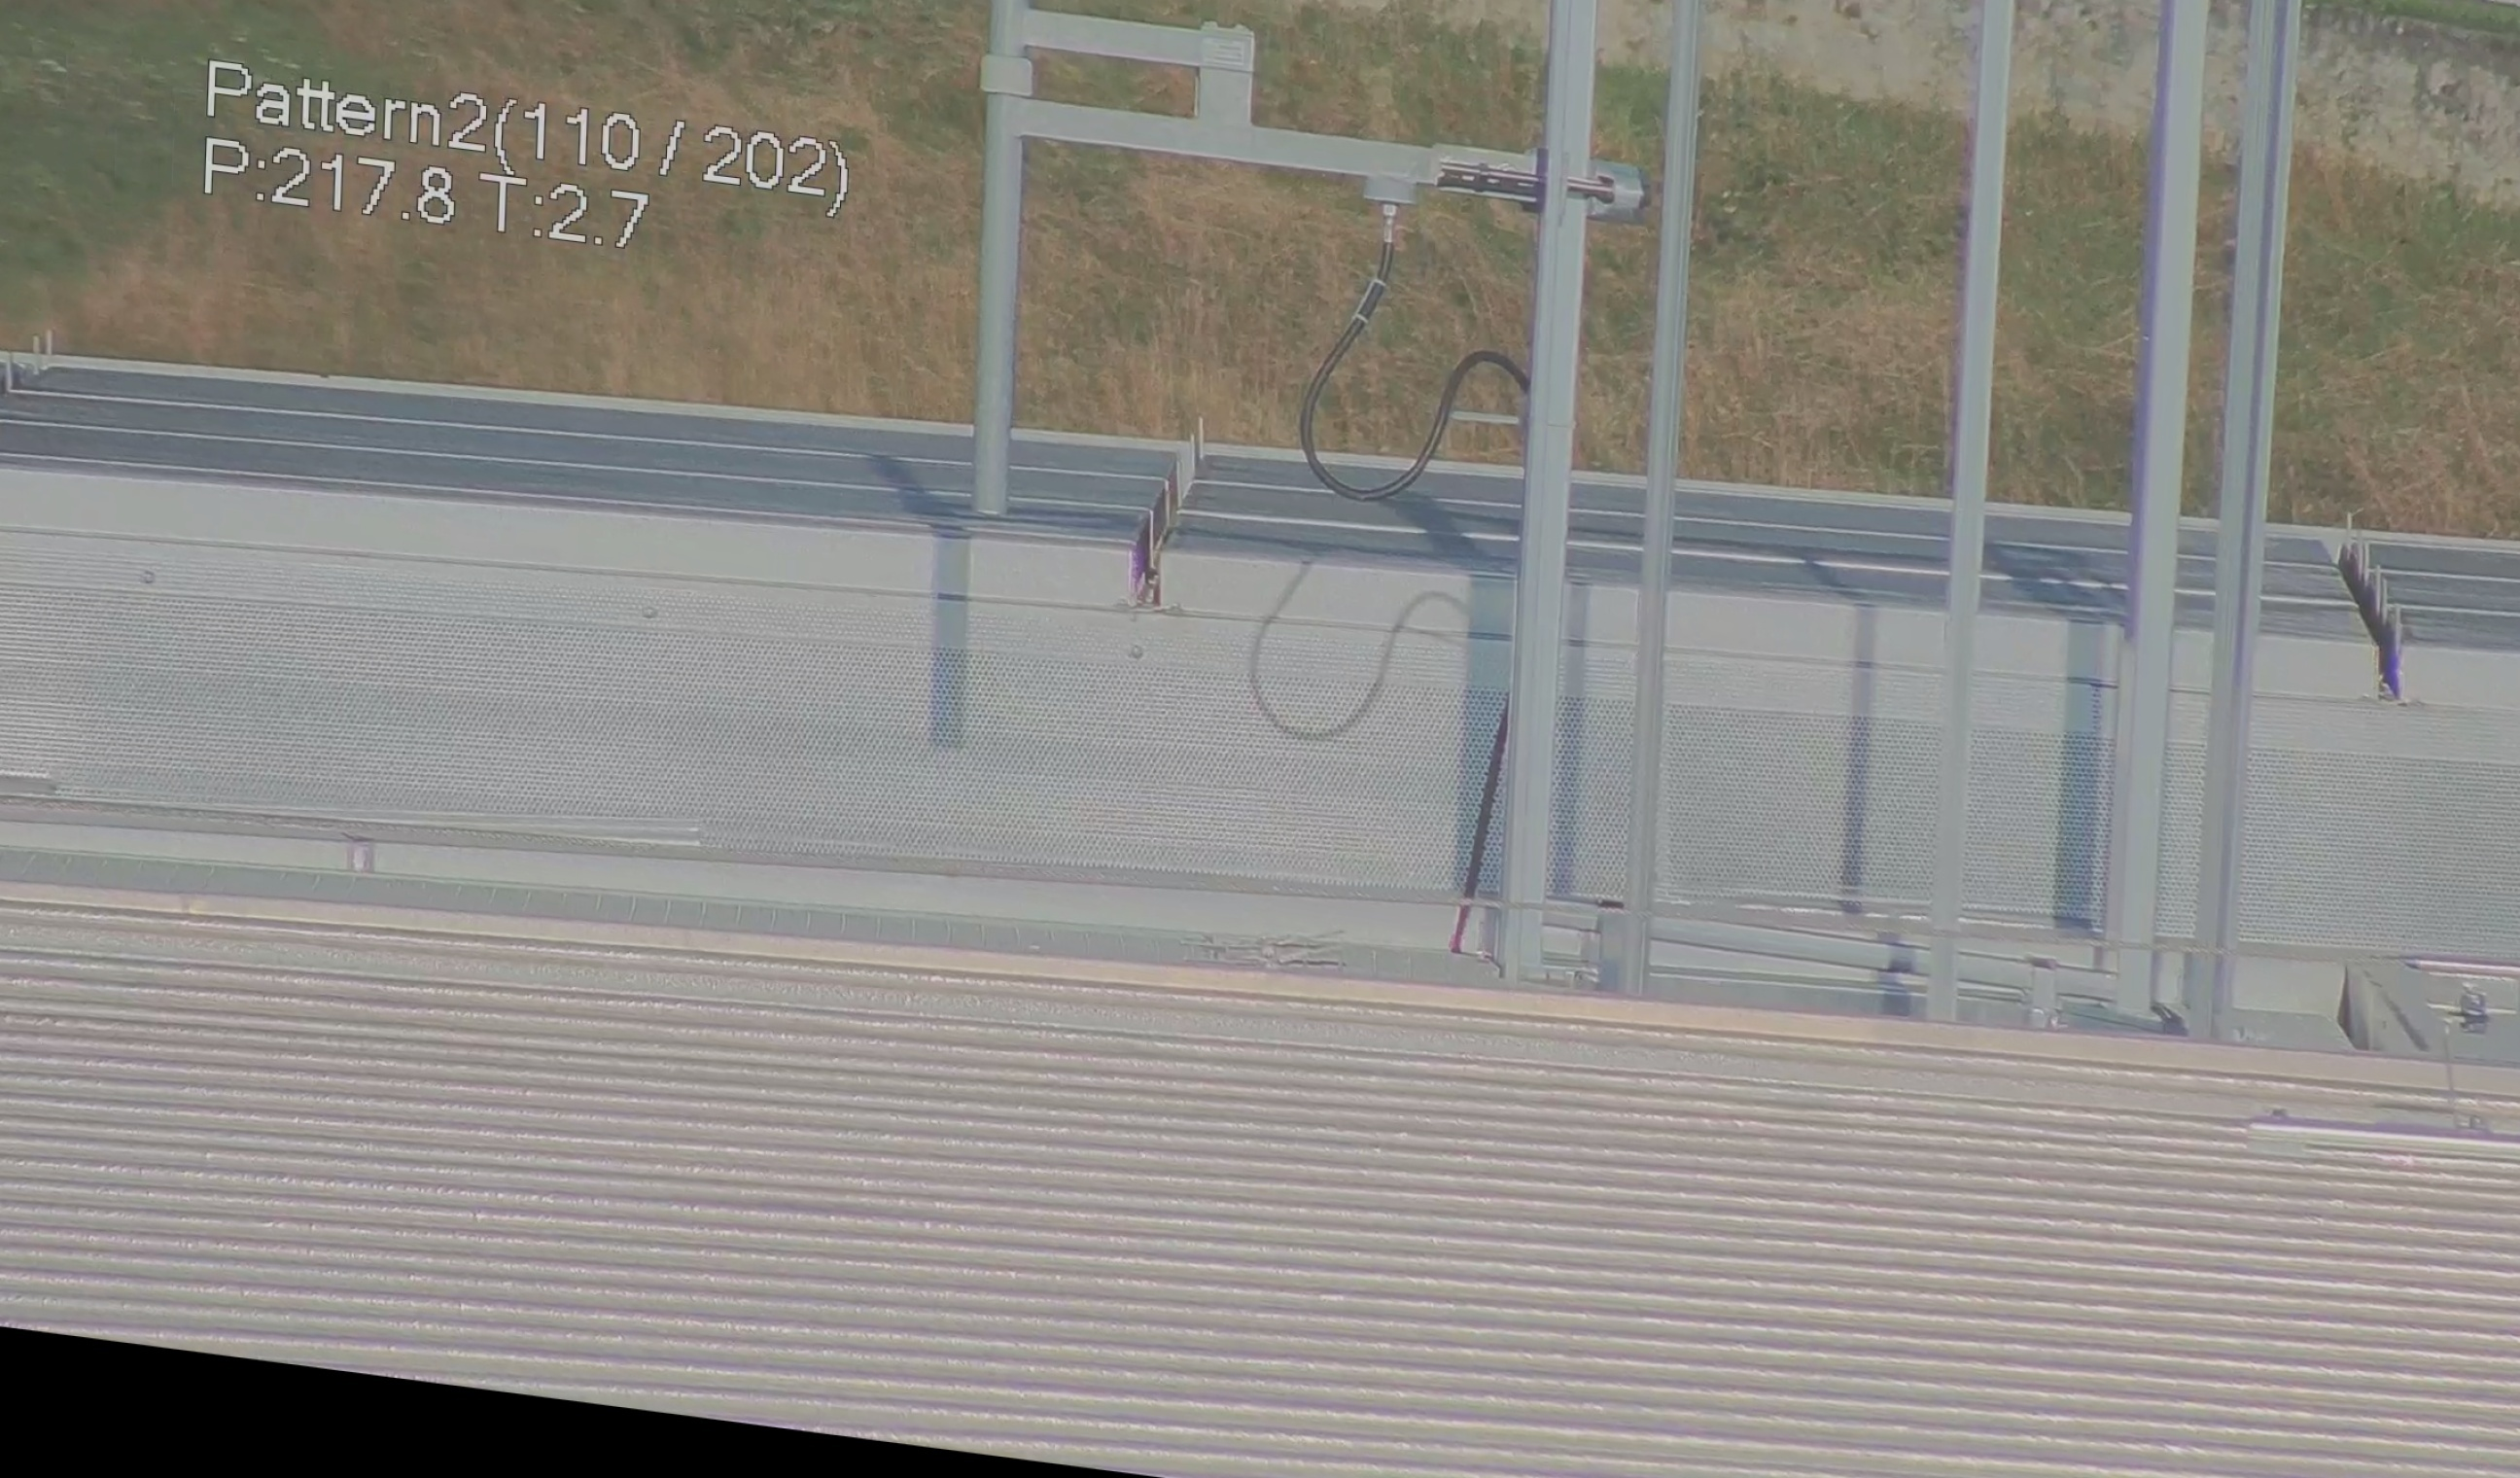Other: (2304, 505, 2450, 721)
